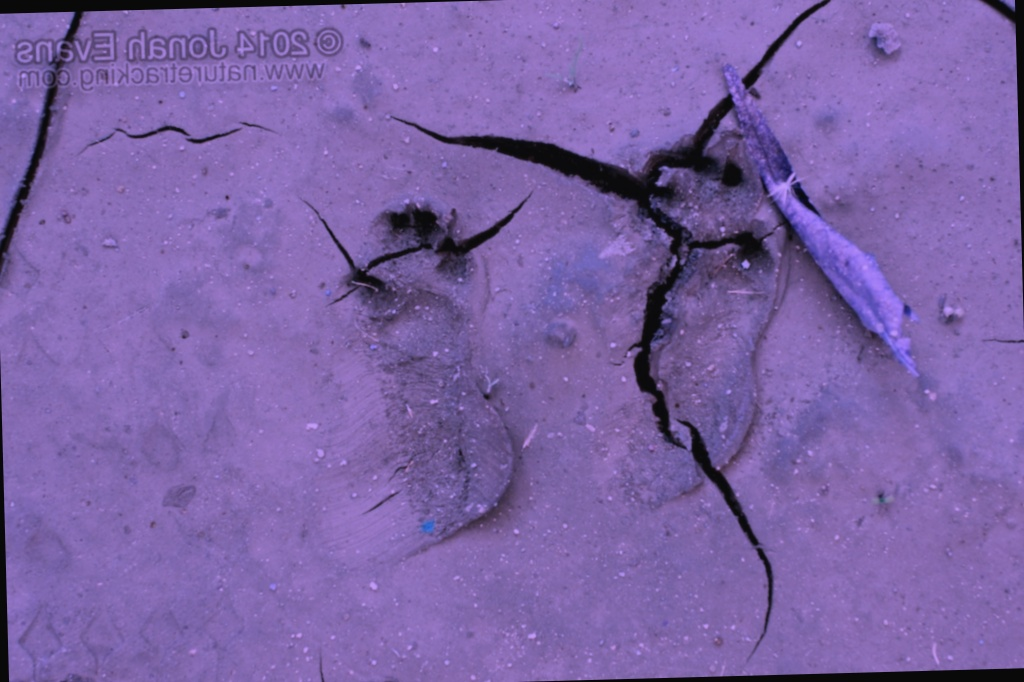lapin: (209, 119, 442, 537), (487, 174, 701, 552)
